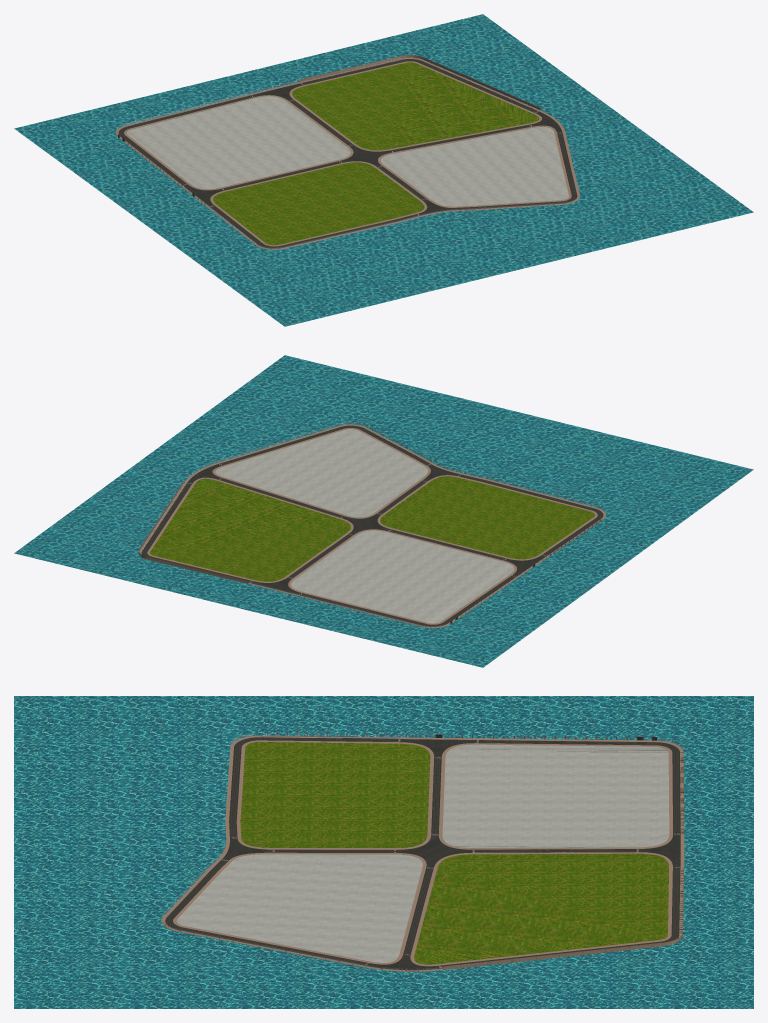
File: road.glb
3 views of the same model, one above another, from view 1: azimuth 30°, elevation 25°; view 2: azimuth 150°, elevation 25°; view 3: azimuth 270°, elevation 25° (orthographic). The views are drawn at different scales.
Parts seen in each view (by area): view 1: eee; view 2: eee; view 3: eee.
Part boxes in pixels (x1=…): eee: x1=14, y1=14, x2=753, y2=326; eee: x1=14, y1=355, x2=753, y2=667; eee: x1=14, y1=696, x2=753, y2=1008.
Bounding box in the file's own units: 733 × 6.6 × 733.
Materials: 8 (7 with a texture image).
